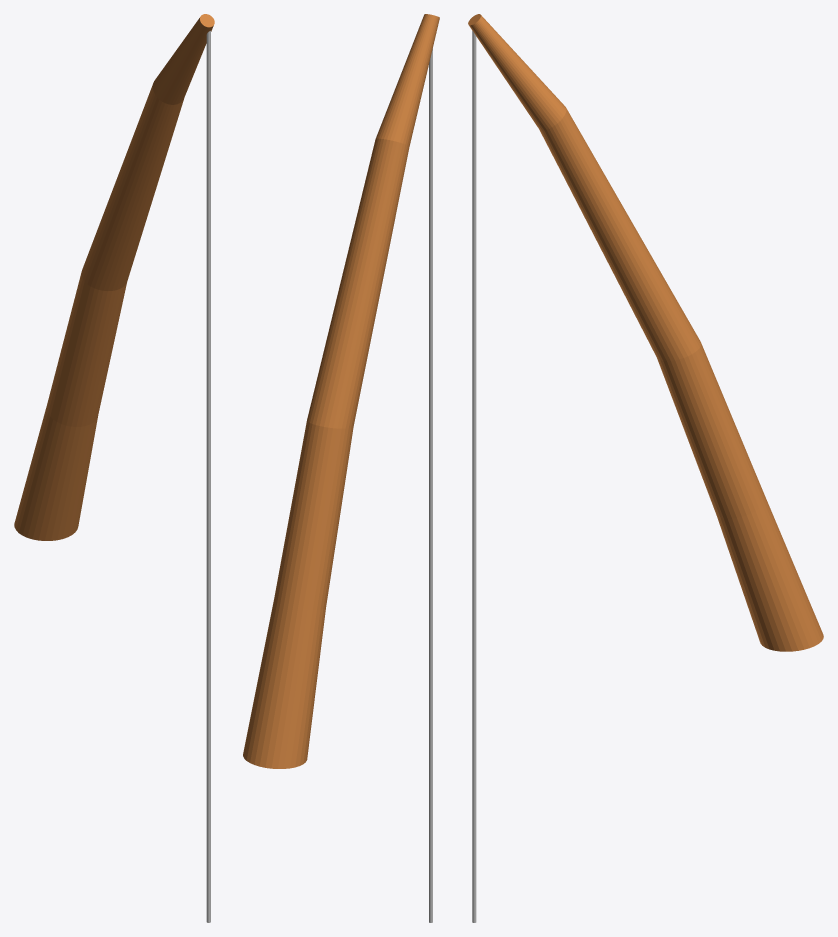
Rendered from FishingRod.fbx.
3 renders of one model, left to right at view 1: azimuth 30°, elevation 25°; view 2: azimuth 150°, elevation 25°; view 3: azimuth 270°, elevation 25°, orthographic.
Parts seen in each view (by area): view 1: Cylinder; view 2: Cylinder; view 3: Cylinder.
Part boxes in pixels (box(x1,y1,x2,y2)): Cylinder: box(14, 14, 214, 922); Cylinder: box(243, 14, 439, 922); Cylinder: box(468, 14, 823, 922).
Bounding box in the file's own units: 88.68 × 1381 × 492.
